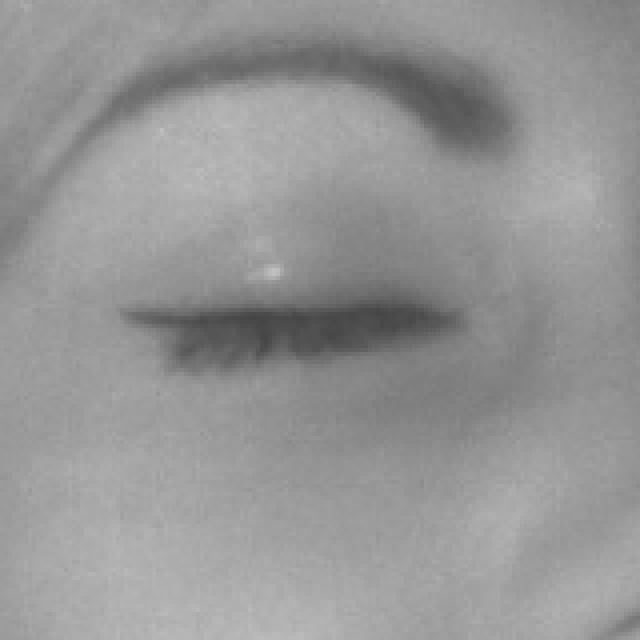Eyeclosed: (110, 180, 481, 441)
